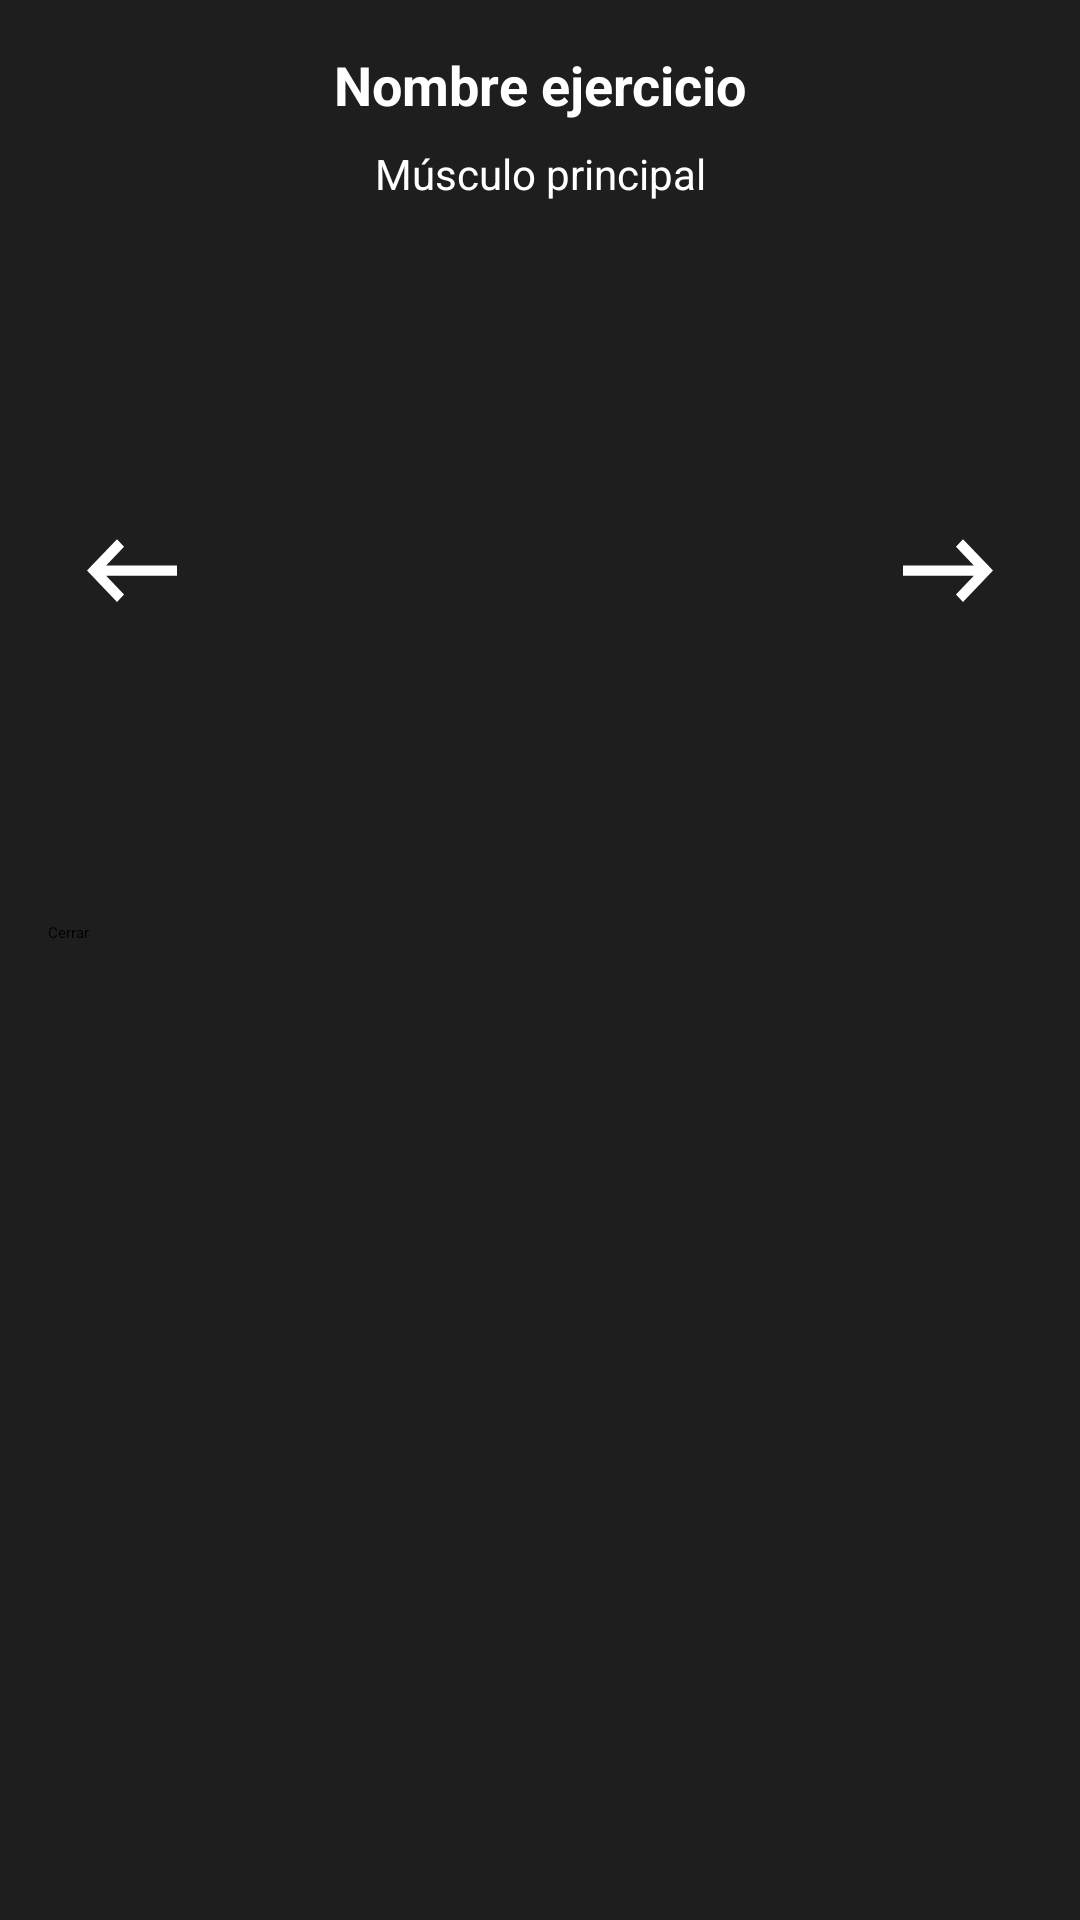

Icons on this 1080 x 1920 Android screen, each with the point to tap as (x,y):
flecha alante: (948,570)
flecha atras: (132,570)
